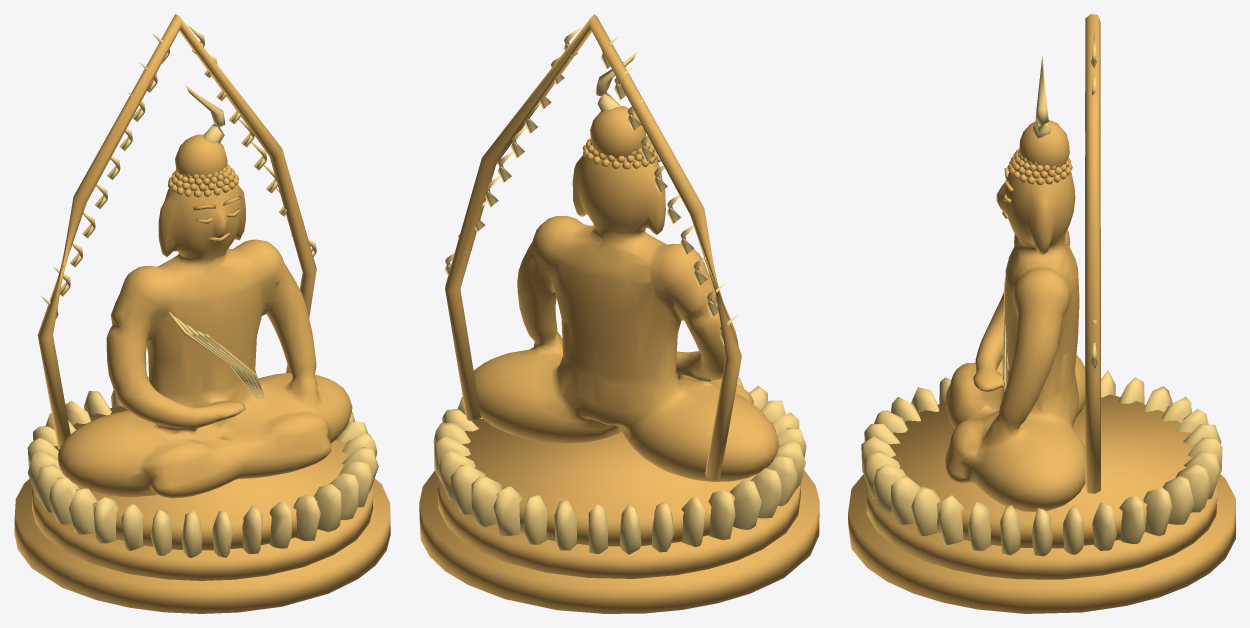
Rendered from buddha-lod.glb.
3 renders of one model, left to right at view 1: azimuth 30°, elevation 25°; view 2: azimuth 150°, elevation 25°; view 3: azimuth 270°, elevation 25°, orthographic. The views are drawn at different scales.
Visible parts, largest first — view 1: buddha LOD / Antique warm gold, buddha LOD / Raised gold ornament; view 2: buddha LOD / Antique warm gold, buddha LOD / Raised gold ornament; view 3: buddha LOD / Antique warm gold, buddha LOD / Raised gold ornament.
Part boxes in pixels (x1,y1,x2,y2): buddha LOD / Antique warm gold: [14, 14, 390, 613]; buddha LOD / Raised gold ornament: [27, 25, 378, 557]; buddha LOD / Antique warm gold: [419, 14, 819, 613]; buddha LOD / Raised gold ornament: [433, 27, 806, 554]; buddha LOD / Antique warm gold: [848, 14, 1235, 613]; buddha LOD / Raised gold ornament: [861, 32, 1222, 556].
Bounding box in the file's own units: 3.2 × 4.71 × 3.2.
